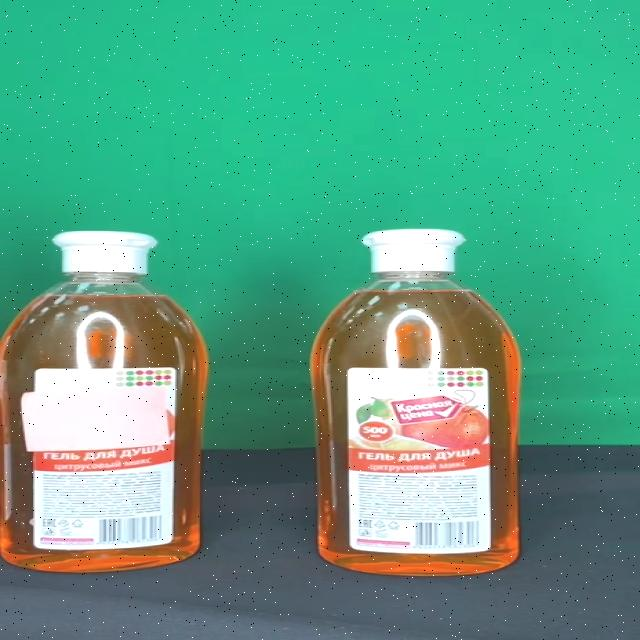Bottle: (309, 228, 524, 576), (0, 230, 209, 572)
Cap: (362, 229, 468, 272), (52, 232, 158, 274)
